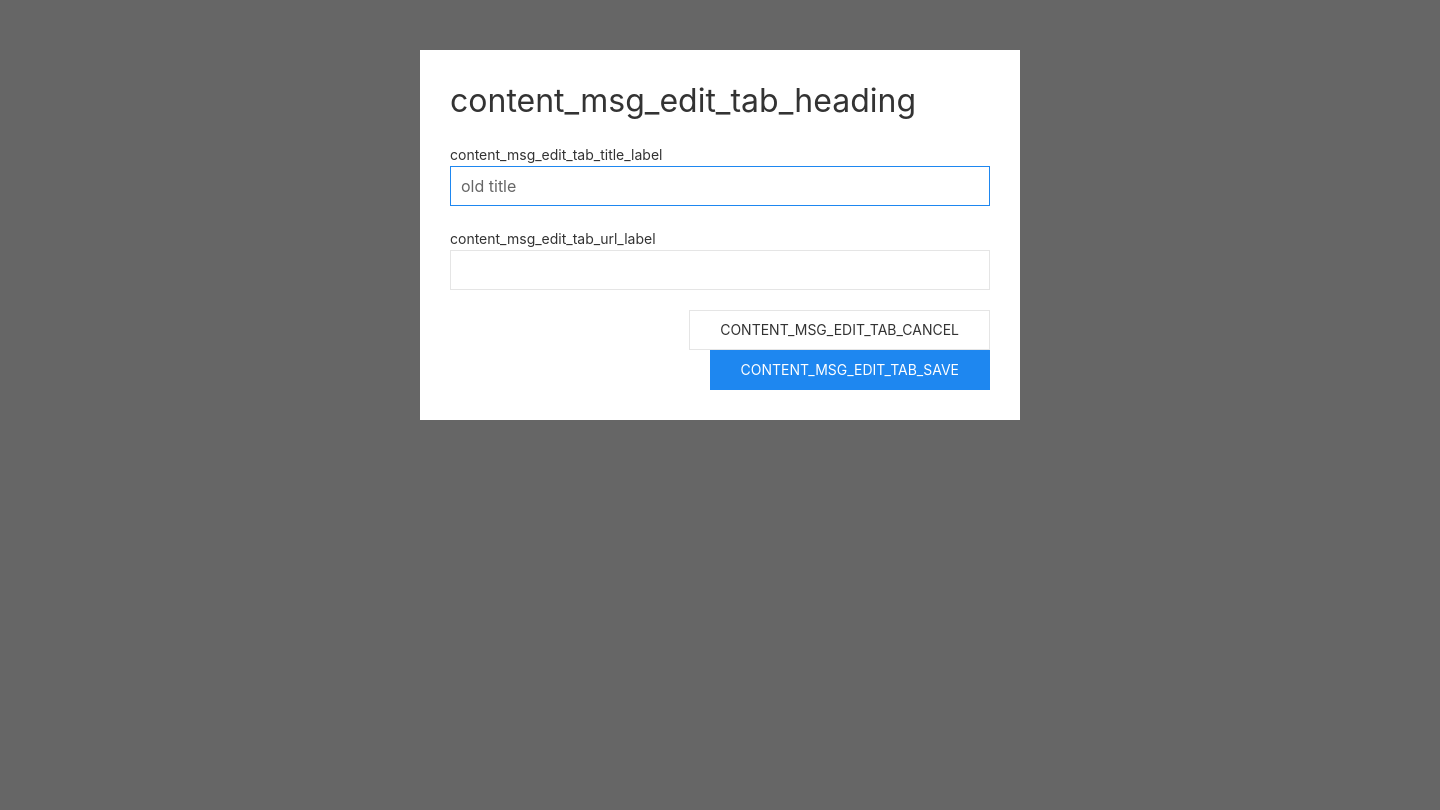
Test case: EditTabModal › URLが空のときは保存せずエラーを表示する
The width and height of the screenshot is (1440, 810).
Click the button with class "edit-tab-save" at (850, 370), box [710,350,990,390]
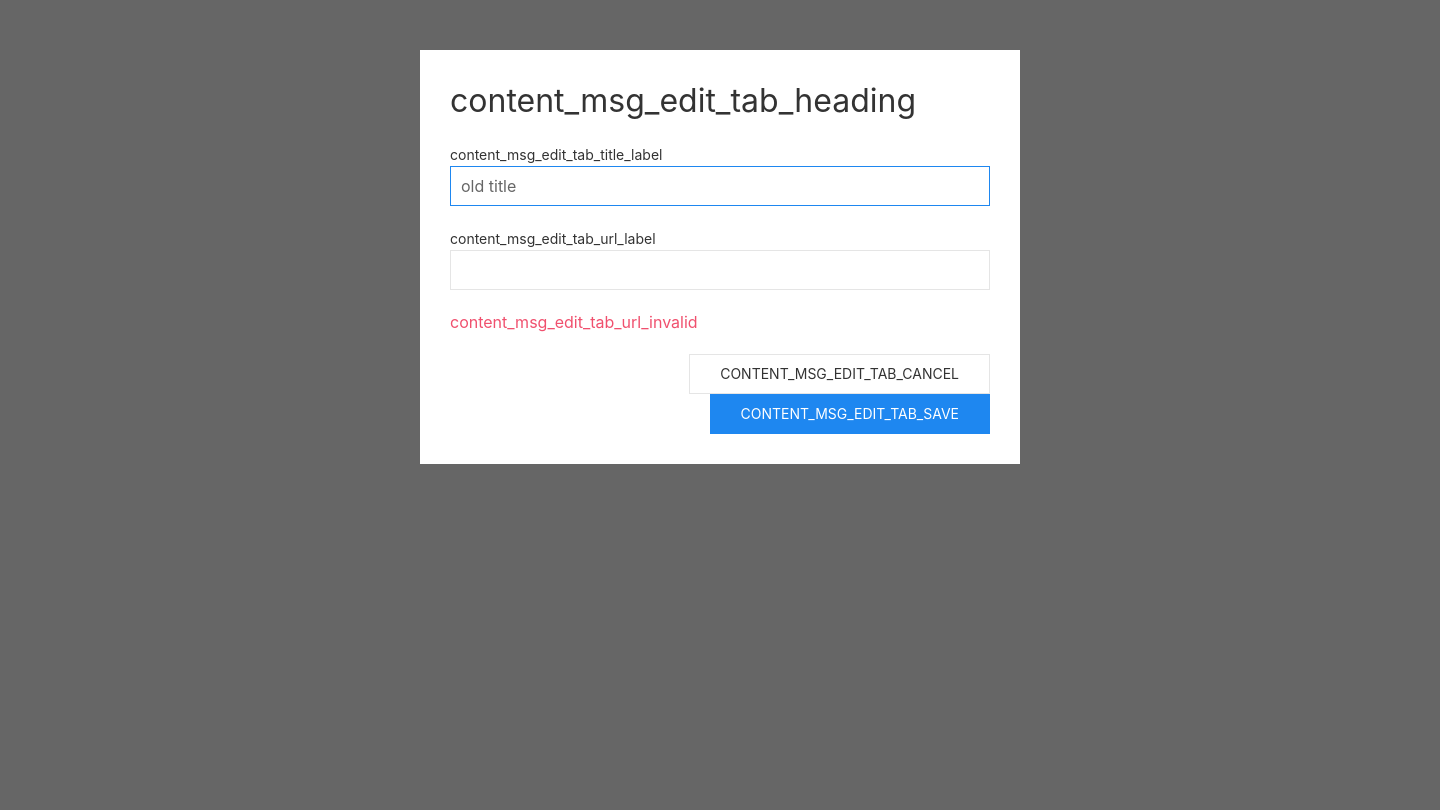
Result: the message with class "edit-tab-error" reads "content_msg_edit_tab_url_invalid" at [450,312,698,332]
